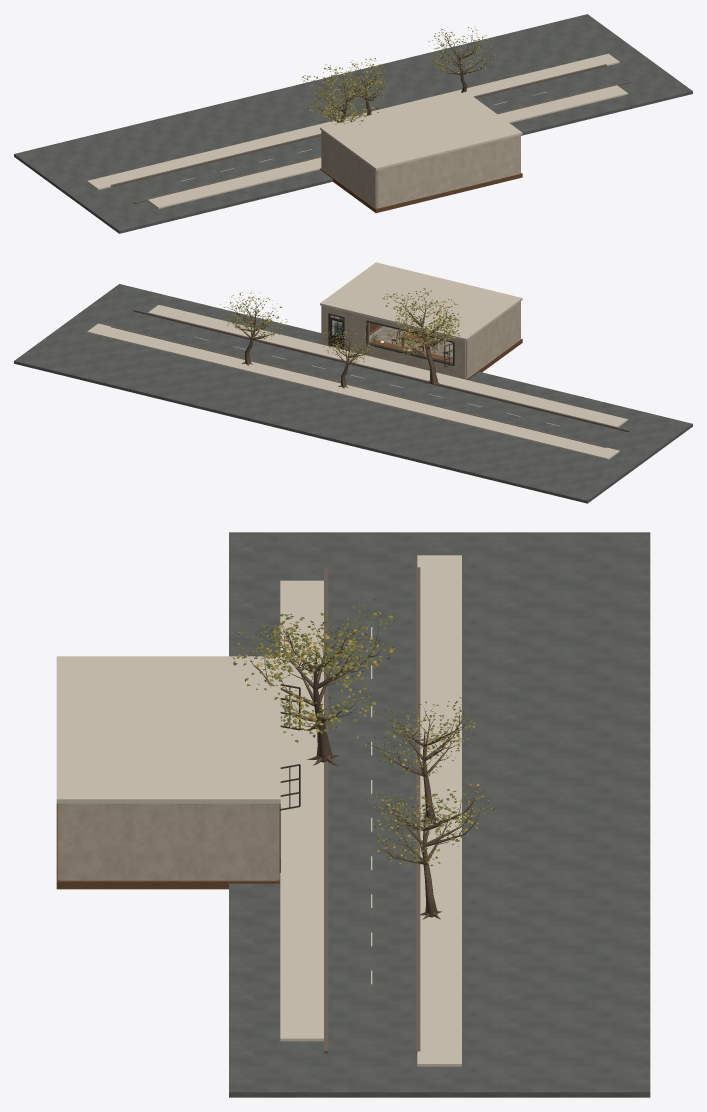
The model's file is cafe.glb.
The picture shows the model from 3 angles, top to bottom: view 1: azimuth 30°, elevation 25°; view 2: azimuth 150°, elevation 25°; view 3: azimuth 270°, elevation 25°; orthographic projection. The views are drawn at different scales.
Visible parts, largest first — view 1: Road, Ceiling panel, Street | Warm ivory, Back plaster, Left plaster, Plane tree canopy, Street | Plane tree bark, Stone curb.001, Room | End grain, Plane tree canopy.002, Stone curb, Plane tree canopy.001; view 2: Road, Street | Warm ivory, Ceiling panel, FrontPlaster | Limewash, Left plaster, Street | Plane tree bark, Plane tree canopy, Stone curb, Stone curb.001, Quarry tiles, Plane tree canopy.002, WallFront | Painted green trim (+1 smaller); view 3: Road, Street | Warm ivory, Ceiling panel, Right plaster, Street | Plane tree bark, Plane tree canopy, Plane tree canopy.002, Stone curb.001, Room | End grain, Stone curb, Plane tree canopy.001.
Boxes of the visible parts, x1,y1,x2,y2 form: Road: (14, 14, 692, 233); Ceiling panel: (320, 91, 522, 170); Street | Warm ivory: (87, 53, 627, 208); Back plaster: (376, 135, 520, 208); Left plaster: (321, 131, 376, 208); Plane tree canopy: (302, 64, 383, 124); Street | Plane tree bark: (311, 31, 488, 122); Stone curb.001: (111, 64, 606, 187); Room | End grain: (320, 168, 522, 213); Plane tree canopy.002: (428, 26, 495, 74); Stone curb: (133, 81, 629, 203); Plane tree canopy.001: (334, 58, 388, 101); Road: (14, 284, 692, 503); Street | Warm ivory: (87, 304, 627, 459); Ceiling panel: (320, 262, 522, 340); FrontPlaster | Limewash: (321, 306, 465, 379); Left plaster: (466, 301, 520, 378); Street | Plane tree bark: (227, 295, 451, 388); Plane tree canopy: (382, 288, 460, 358); Stone curb: (133, 309, 629, 432); Stone curb.001: (111, 326, 606, 447); Quarry tiles: (369, 326, 452, 358); Plane tree canopy.002: (218, 290, 287, 343); WallFront | Painted green trim: (328, 313, 454, 365); Road: (229, 532, 650, 1097); Street | Warm ivory: (280, 555, 461, 1066); Ceiling panel: (56, 656, 280, 803); Right plaster: (60, 803, 276, 880); Street | Plane tree bark: (249, 618, 480, 919); Plane tree canopy: (233, 598, 396, 742); Plane tree canopy.002: (364, 776, 495, 865); Stone curb.001: (416, 567, 420, 1053); Room | End grain: (56, 803, 280, 889); Stone curb: (324, 567, 328, 1053); Plane tree canopy.001: (353, 697, 476, 777).
Size of the model in its own units: 44 by 6.32 by 19.72.
Materials: 86 (25 with a texture image).
